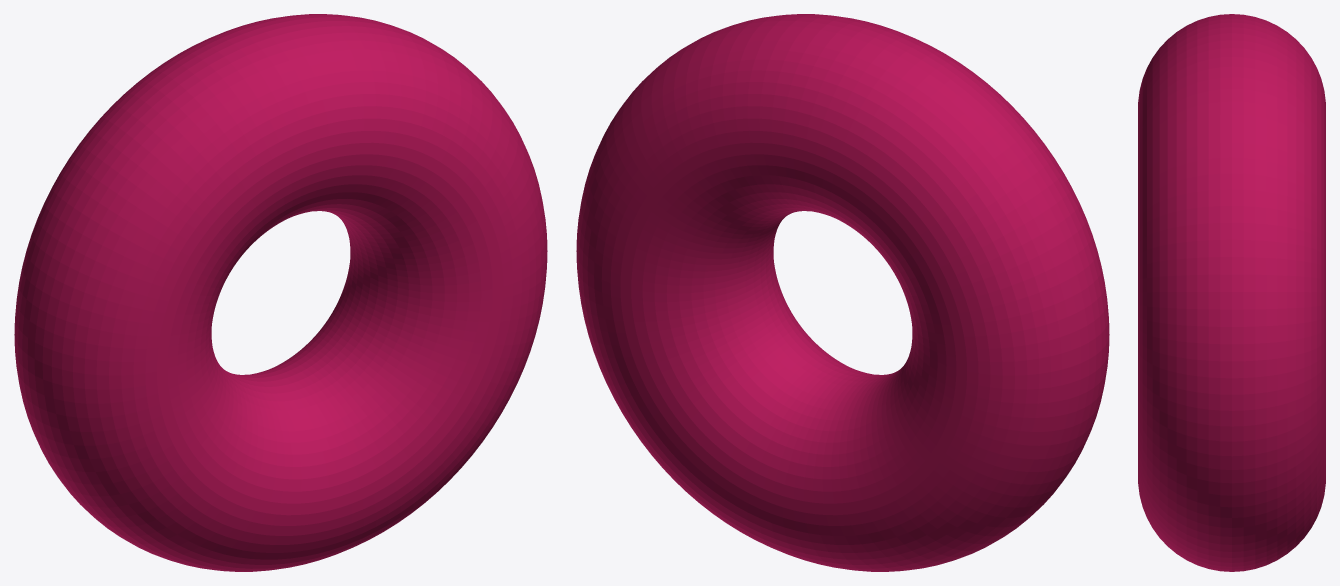
The picture shows the model from 3 angles, left to right: view 1: azimuth 30°, elevation 25°; view 2: azimuth 150°, elevation 25°; view 3: azimuth 270°, elevation 25°; orthographic projection. The views are drawn at different scales.
Visible parts, largest first — view 1: world; view 2: world; view 3: world.
Boxes of the visible parts, x1,y1,x2,y2 form: world: (14,14,547,571); world: (576,14,1109,571); world: (1138,14,1325,571).
Size of the model in its own units: 24.13 by 24.13 by 8.12.
